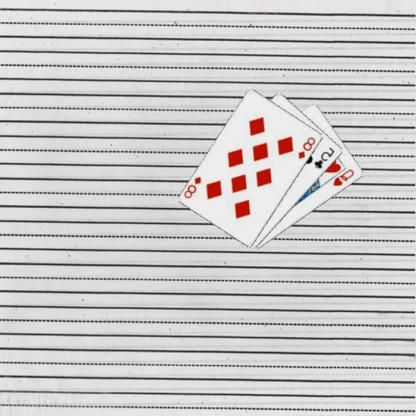5C: (313, 144, 338, 170)
8D: (297, 134, 319, 160), (183, 174, 204, 200)
QH: (332, 166, 357, 188)
